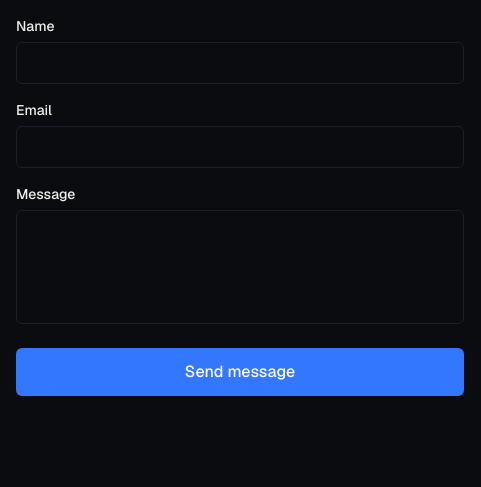
Test case: ContactForm Component › 3, 8: button shows submitting state, becomes disabled, prevents double submit
Type "John" into the field labelled "Name" at (240, 63), box [16,42,464,84]
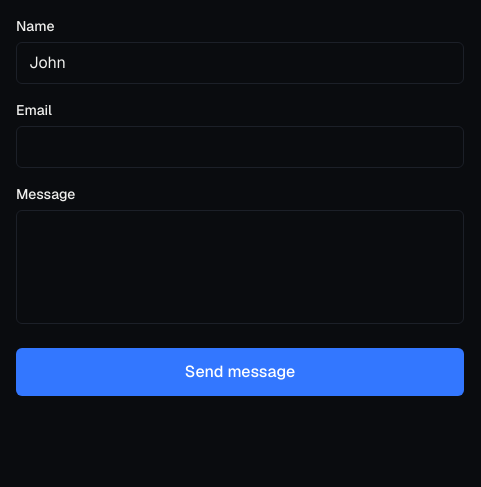
Type "john@example.com" into the field labelled "Email" at (240, 147), box [16,126,464,168]
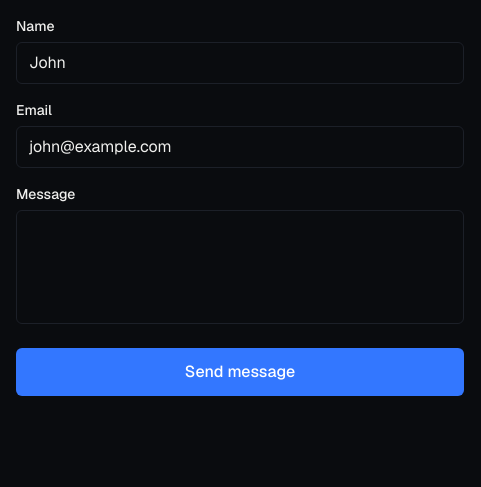
Type "Valid test message" into the text box labelled "Message" at (240, 267), box [16,210,464,324]
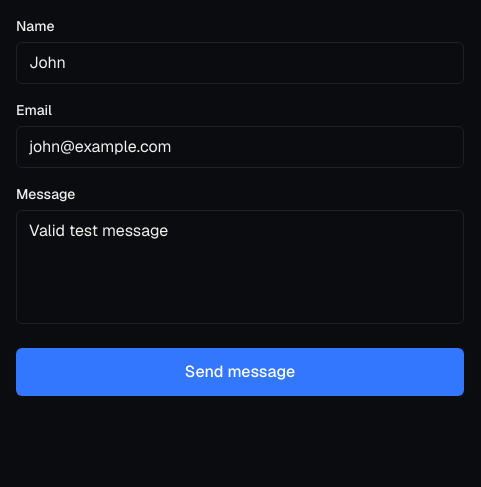
Click the button "Send message" at (240, 372), box [16,348,464,396]
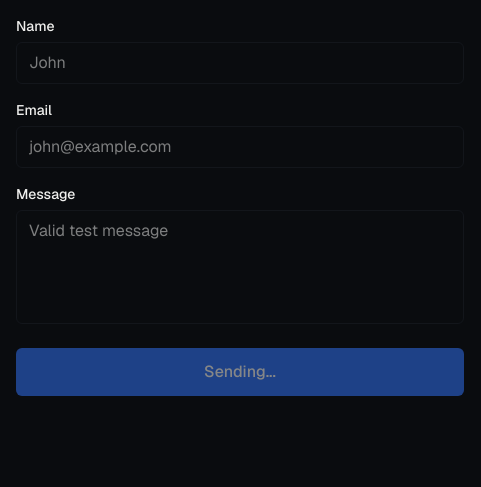
expect the button named "Send message" is disabled: met
expect the button named "Send message" reads "Sending...": met
Double submit attempt
Click the button named "Send message" at (240, 372), box [16,348,464,396]
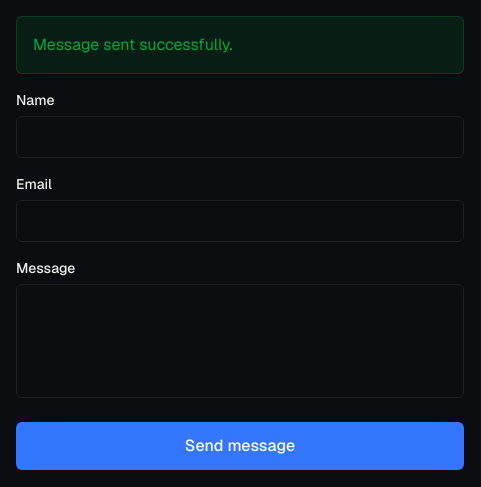
expect the button "Send message" is enabled: met, box [16,422,464,470]
